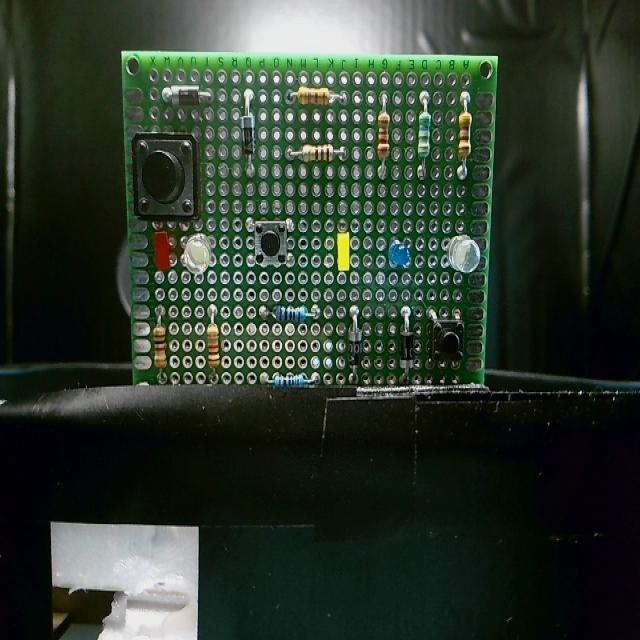diode: (240, 110, 258, 161), (166, 86, 204, 105), (347, 321, 362, 365), (399, 330, 415, 370)
led: (449, 230, 481, 275), (184, 236, 214, 274), (153, 231, 172, 276), (389, 238, 414, 270), (336, 235, 351, 273)
resistor: (453, 112, 473, 159), (293, 85, 333, 106), (299, 139, 337, 161), (205, 324, 223, 370), (273, 302, 310, 324), (376, 112, 392, 158), (417, 113, 432, 162), (152, 326, 167, 370), (271, 373, 306, 387)
switch: (131, 134, 197, 223), (428, 318, 467, 370), (254, 222, 289, 268)
